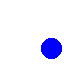circle: (41, 38, 61, 58)
